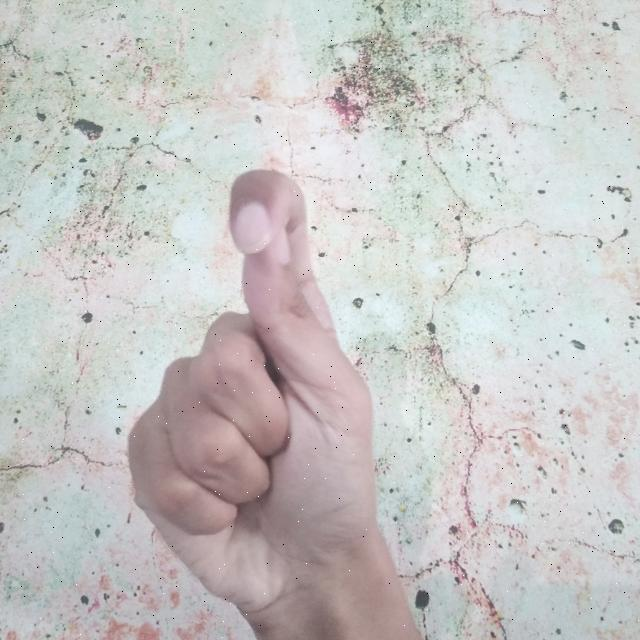T: (123, 160, 424, 640)
